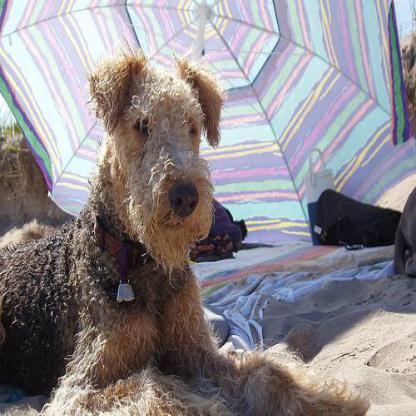dog: (50, 51, 359, 415)
